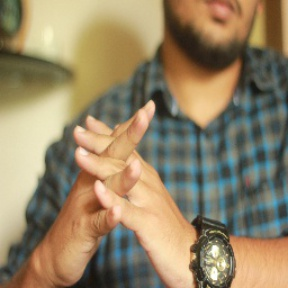W: (51, 92, 173, 255)
